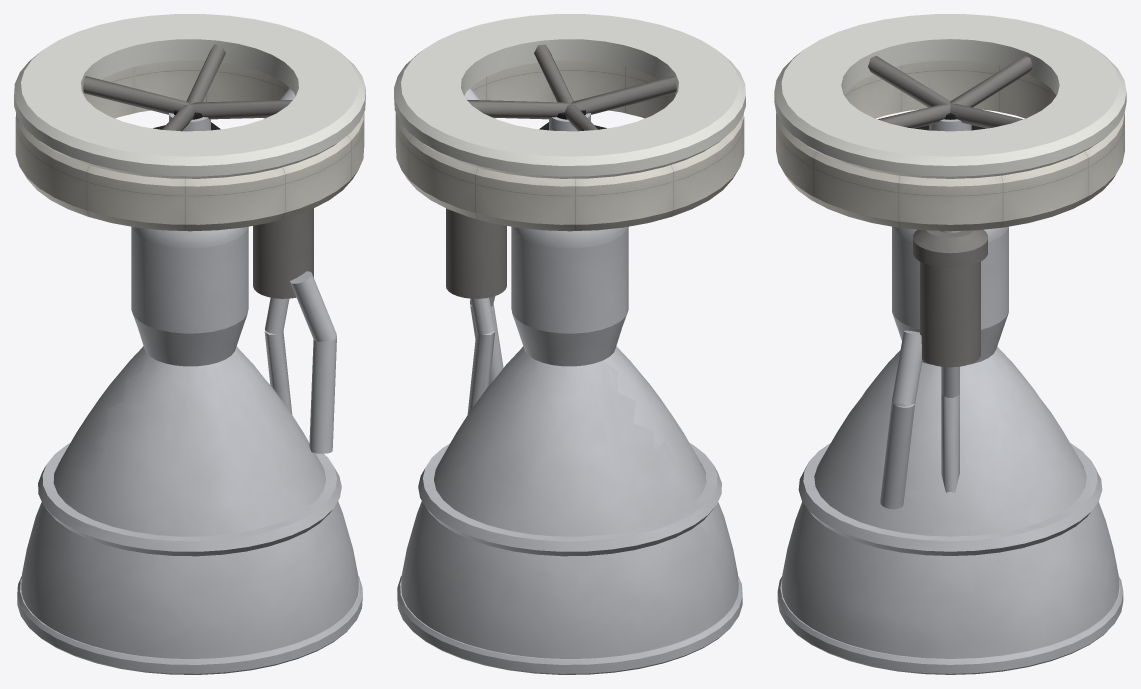
Rendered from ax_prop_07_kite_sl.glb.
3 renders of one model, left to right at view 1: azimuth 30°, elevation 25°; view 2: azimuth 150°, elevation 25°; view 3: azimuth 270°, elevation 25°, orthographic.
Parts seen in each view (by area): view 1: regen_nozzle, mount_ring, thermal_blanket_ring, chamber, regen_manifold, plumbing, nozzle_lip, thrust_struts, turbopumps, injector_dome; view 2: regen_nozzle, mount_ring, thermal_blanket_ring, chamber, regen_manifold, nozzle_lip, turbopumps, thrust_struts, plumbing, injector_dome; view 3: regen_nozzle, mount_ring, thermal_blanket_ring, turbopumps, regen_manifold, plumbing, nozzle_lip, chamber, thrust_struts, injector_dome.
Part boxes in pixels (x1,y1,x2,y2): regen_nozzle: (21, 346, 358, 658); mount_ring: (14, 14, 365, 178); thermal_blanket_ring: (15, 60, 364, 231); chamber: (131, 226, 248, 366); regen_manifold: (38, 443, 341, 556); plumbing: (264, 88, 336, 453); nozzle_lip: (17, 575, 362, 674); thrust_struts: (83, 44, 292, 131); turbopumps: (253, 208, 313, 298); injector_dome: (132, 113, 247, 248); regen_nozzle: (401, 346, 738, 658); mount_ring: (394, 14, 745, 178); thermal_blanket_ring: (395, 60, 744, 231); chamber: (511, 226, 628, 366); regen_manifold: (418, 443, 721, 556); nozzle_lip: (397, 575, 742, 674); turbopumps: (446, 208, 506, 298); thrust_struts: (467, 44, 676, 131); plumbing: (464, 88, 503, 414); injector_dome: (512, 113, 627, 248); regen_nozzle: (781, 346, 1119, 658); mount_ring: (774, 14, 1126, 178); thermal_blanket_ring: (776, 60, 1124, 231); turbopumps: (913, 229, 987, 367); regen_manifold: (798, 443, 1102, 555); plumbing: (880, 231, 960, 509); nozzle_lip: (777, 576, 1123, 674); chamber: (892, 227, 1008, 364); thrust_struts: (868, 56, 1032, 128); injector_dome: (892, 119, 1008, 242).
Bounding box in the file's own units: 0.9 × 1.46 × 0.9.
5 materials, 3 textured.
